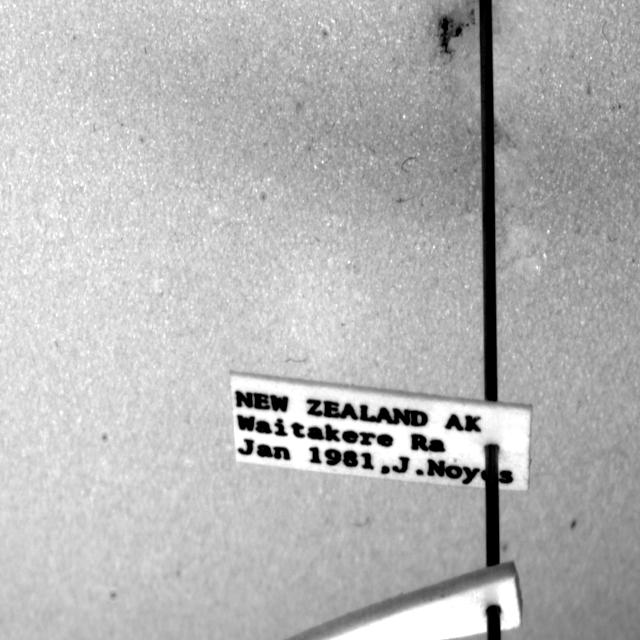typed_label: (231, 373, 531, 489)
